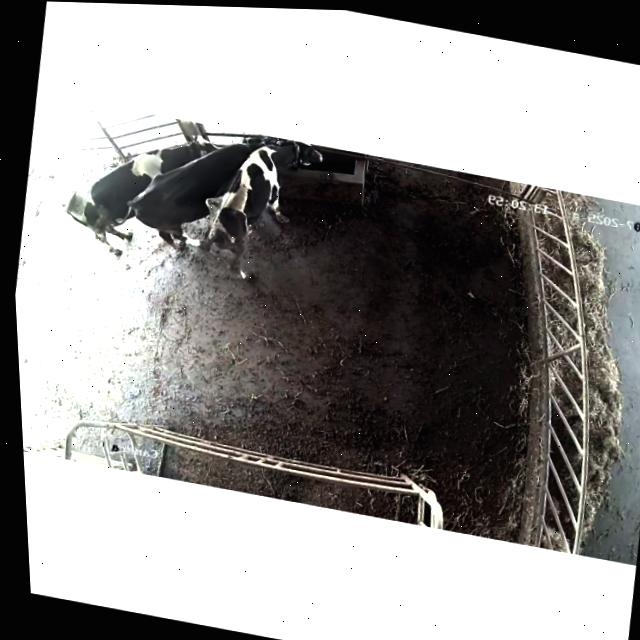drink: (259, 136, 332, 197), (221, 128, 285, 176)
stand: (66, 141, 215, 255)
